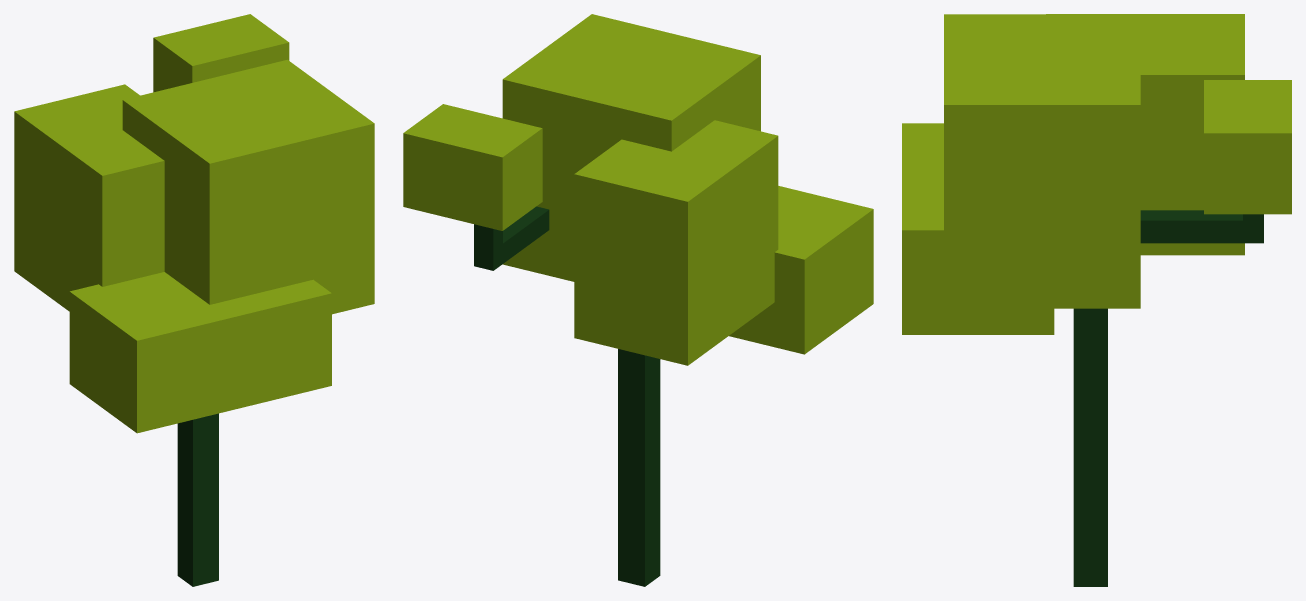
File: tree2.obj
The picture shows the model from 3 angles, left to right: view 1: azimuth 30°, elevation 25°; view 2: azimuth 150°, elevation 25°; view 3: azimuth 270°, elevation 25°; orthographic projection. The views are drawn at different scales.
Parts seen in each view (by area): view 1: Cube; view 2: Cube; view 3: Cube.
Part boxes in pixels (box(x1,y1,x2,y2)): Cube: box(14, 14, 374, 586); Cube: box(403, 14, 873, 586); Cube: box(902, 14, 1291, 586).
Bounding box in the file's own units: 0.9314 × 1.48 × 0.9741.
